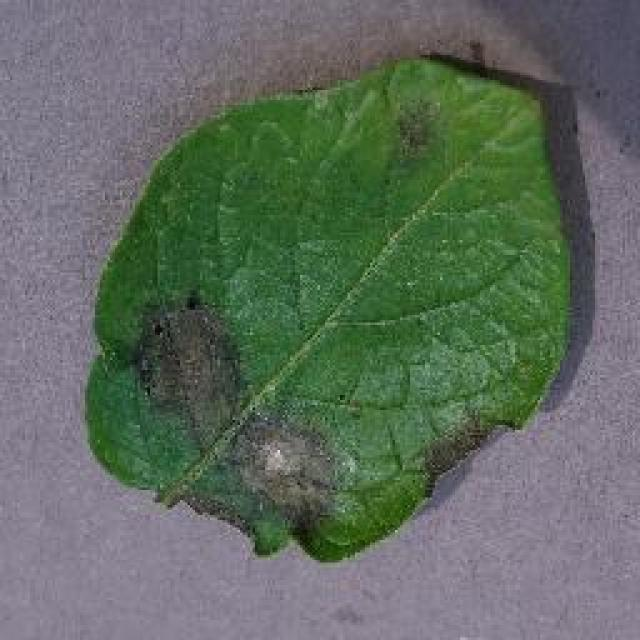late_blight: (78, 47, 590, 565)
